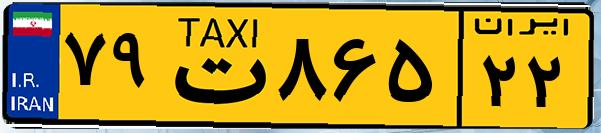2: (475, 38, 525, 113), (525, 38, 570, 115)
5: (385, 28, 445, 110)
6: (330, 28, 385, 110)
7: (57, 26, 110, 100)
8: (270, 28, 330, 110)
9: (110, 28, 158, 98)
ت: (158, 12, 270, 120)
